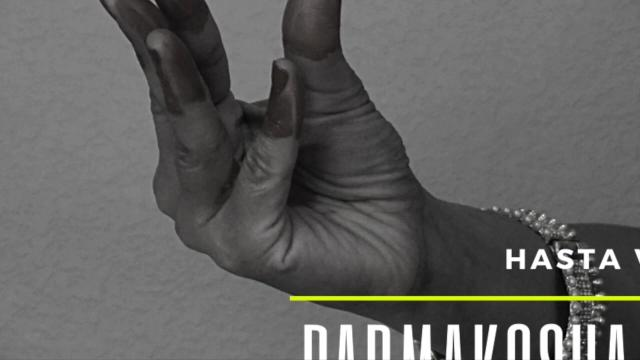padamkosh: (93, 1, 513, 331)
